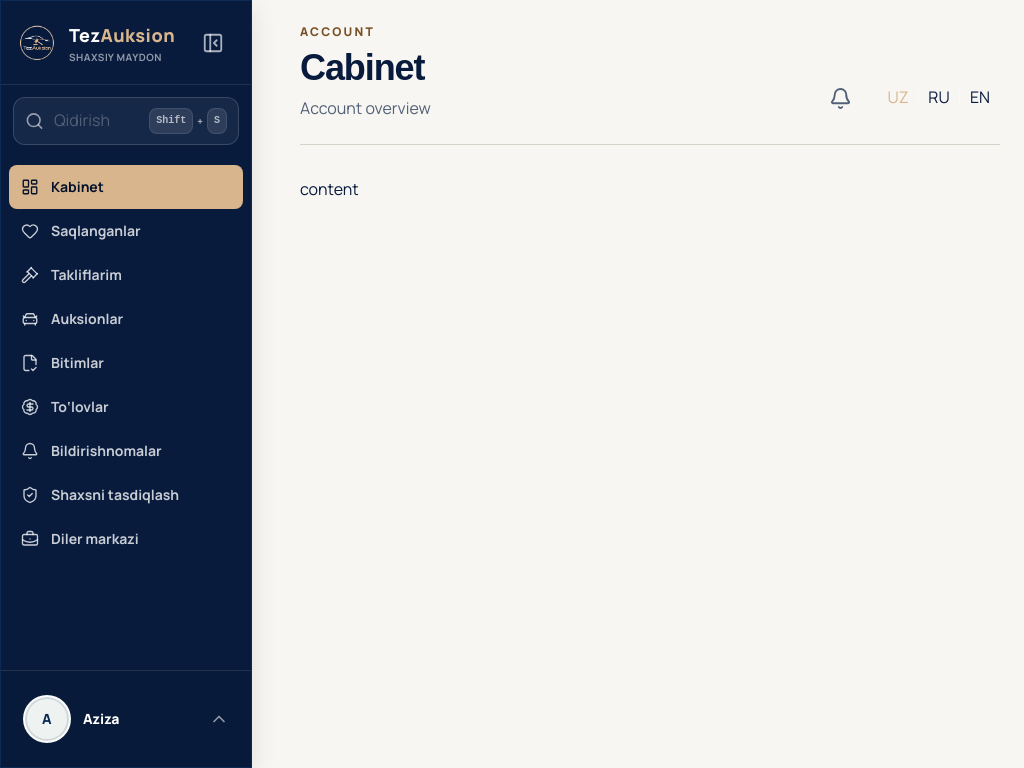
Test case: AppShell › focuses sidebar search with Shift+S and filters links by localized label or URL
Press S
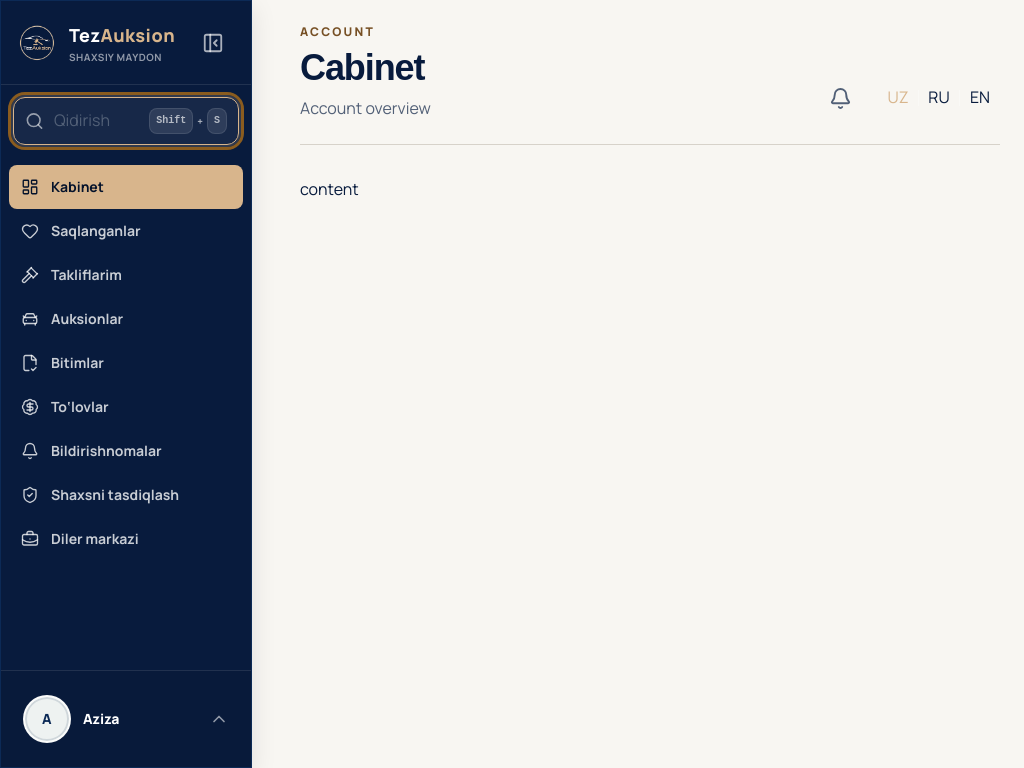
Type "/dashboard/payments" into the search field named "Menu bo‘limlarini qidirish" at [126, 121], box [13, 97, 239, 145]
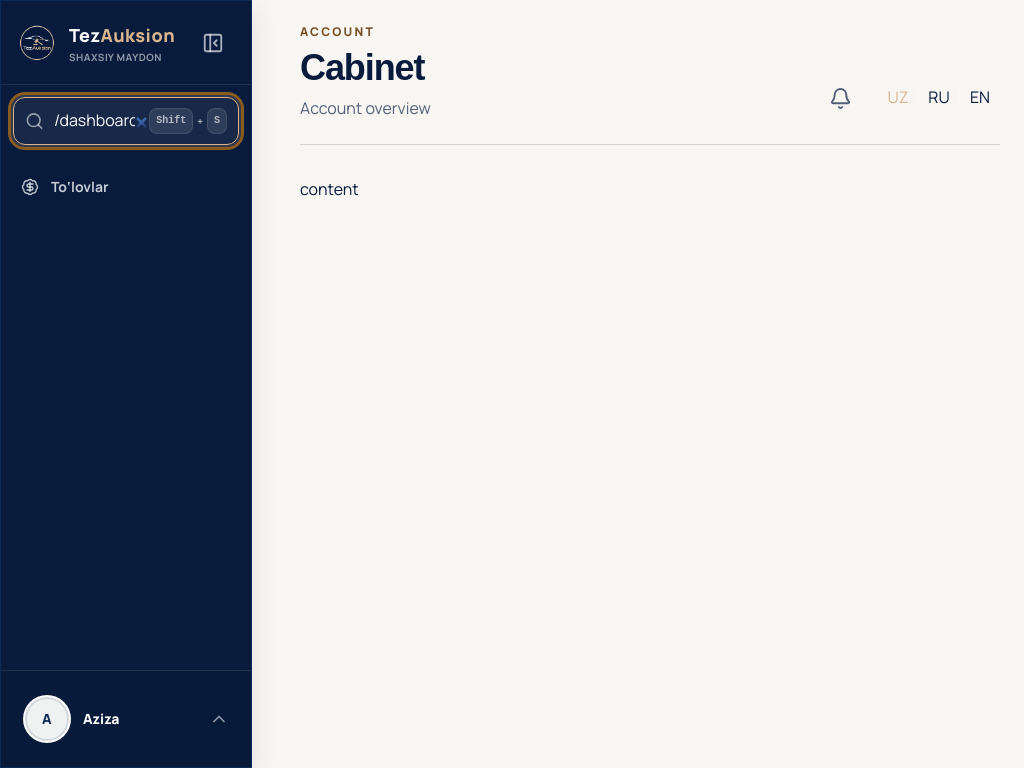
Check: the link "To‘lovlar" is shown, box [21, 177, 109, 196]
Check: the link "Saqlanganlar" is gone
